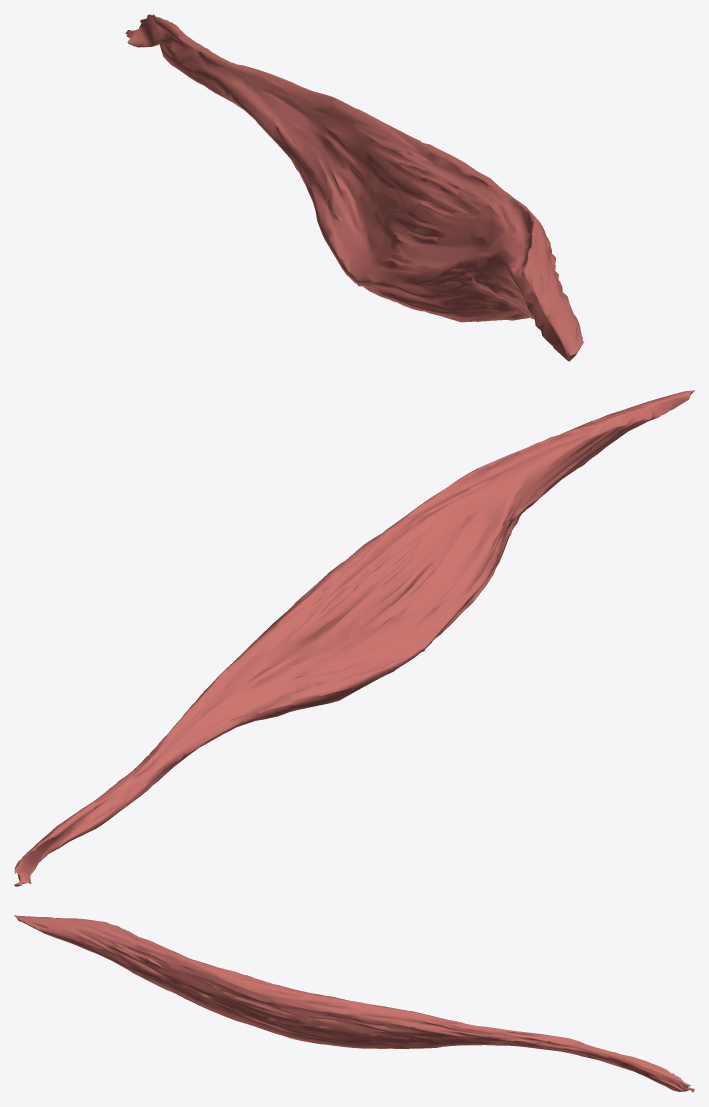
The picture shows the model from 3 angles, top to bottom: view 1: azimuth 30°, elevation 25°; view 2: azimuth 150°, elevation 25°; view 3: azimuth 270°, elevation 25°; orthographic projection. The views are drawn at different scales.
Visible parts, largest first — view 1: 左侧肱桡肌; view 2: 左侧肱桡肌; view 3: 左侧肱桡肌.
Part boxes in pixels (bbox=[...]): 左侧肱桡肌: bbox=[125, 14, 583, 361]; 左侧肱桡肌: bbox=[14, 390, 694, 886]; 左侧肱桡肌: bbox=[14, 915, 694, 1092].
Size of the model in its own units: 0.1102 by 0.1022 by 0.5143.
